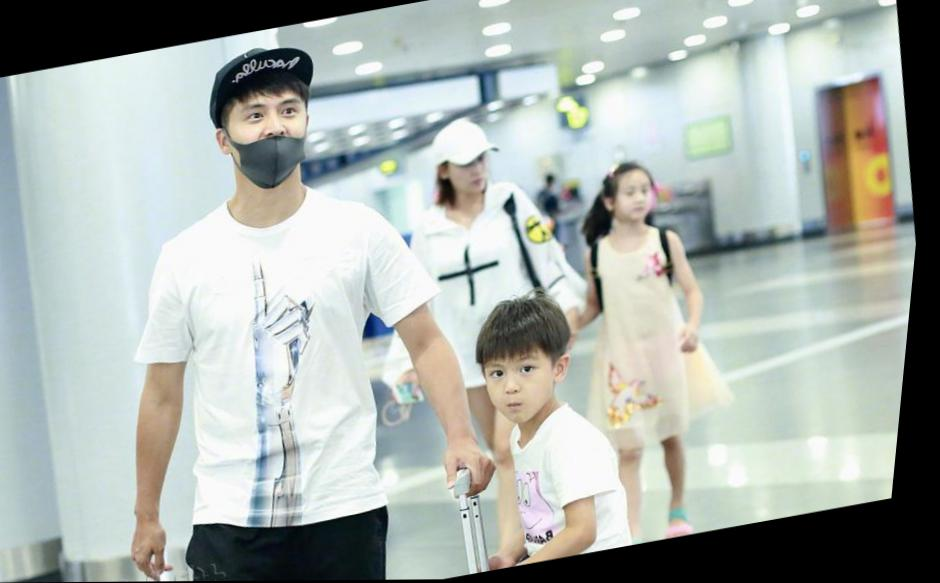NONE: (488, 356, 562, 423), (616, 180, 667, 227), (456, 151, 500, 195)
WRONG: (215, 91, 327, 195)
